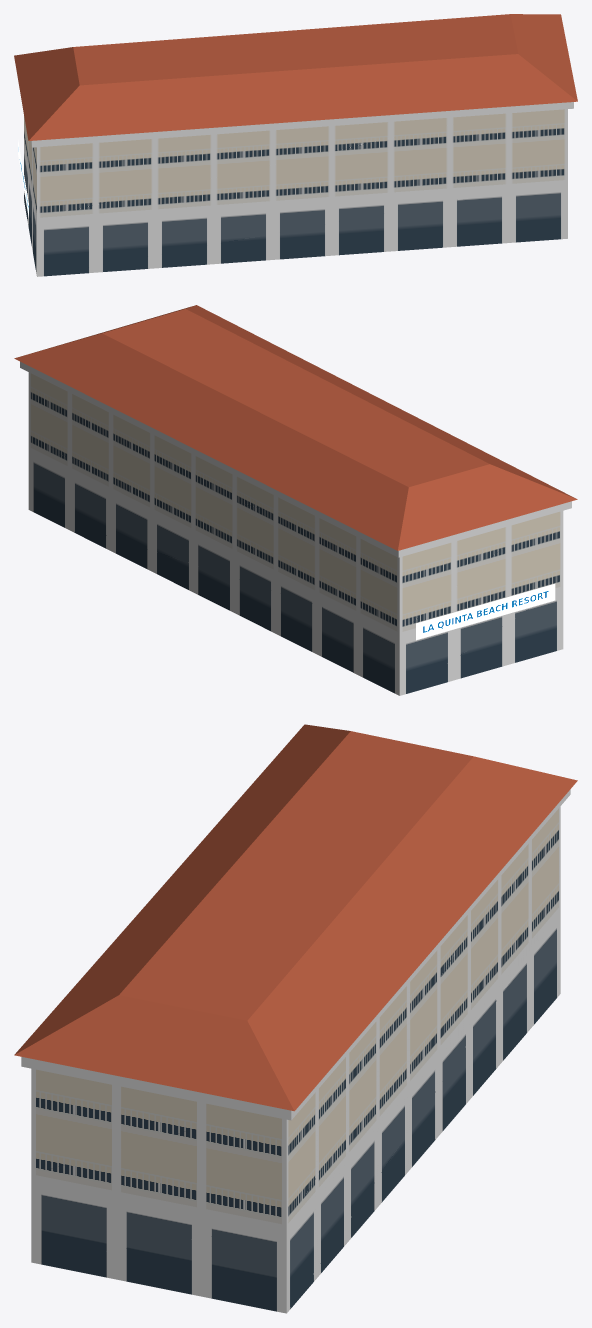
The model's file is laquinta.glb.
3 renders of one model, top to bottom at view 1: azimuth 30°, elevation 25°; view 2: azimuth 150°, elevation 25°; view 3: azimuth 270°, elevation 25°, orthographic. The views are drawn at different scales.
Visible parts, largest first — view 1: laquinta_lod0; view 2: laquinta_lod0; view 3: laquinta_lod0.
Part boxes in pixels (x1=…): laquinta_lod0: x1=14, y1=14, x2=577, y2=276; laquinta_lod0: x1=14, y1=305, x2=577, y2=695; laquinta_lod0: x1=14, y1=724, x2=577, y2=1313.
Size of what is drawn, in the model's own units: 39.45 by 12 by 24.3.
5 materials, 3 textured.
